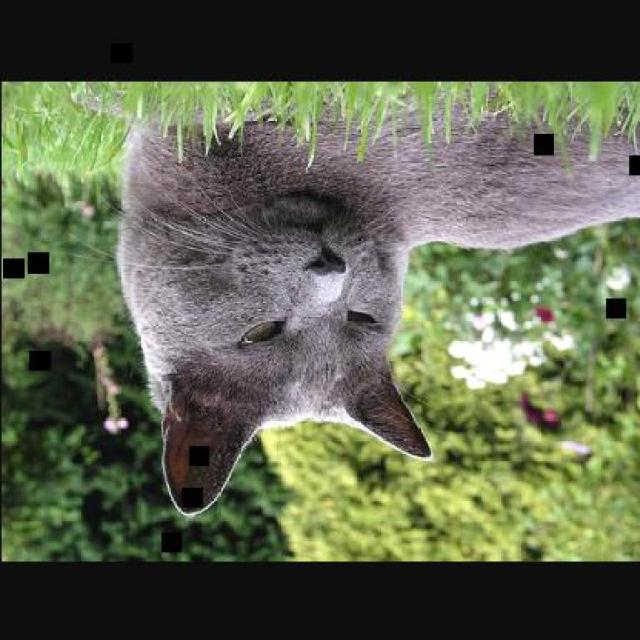unauthorized: (103, 91, 639, 517)
